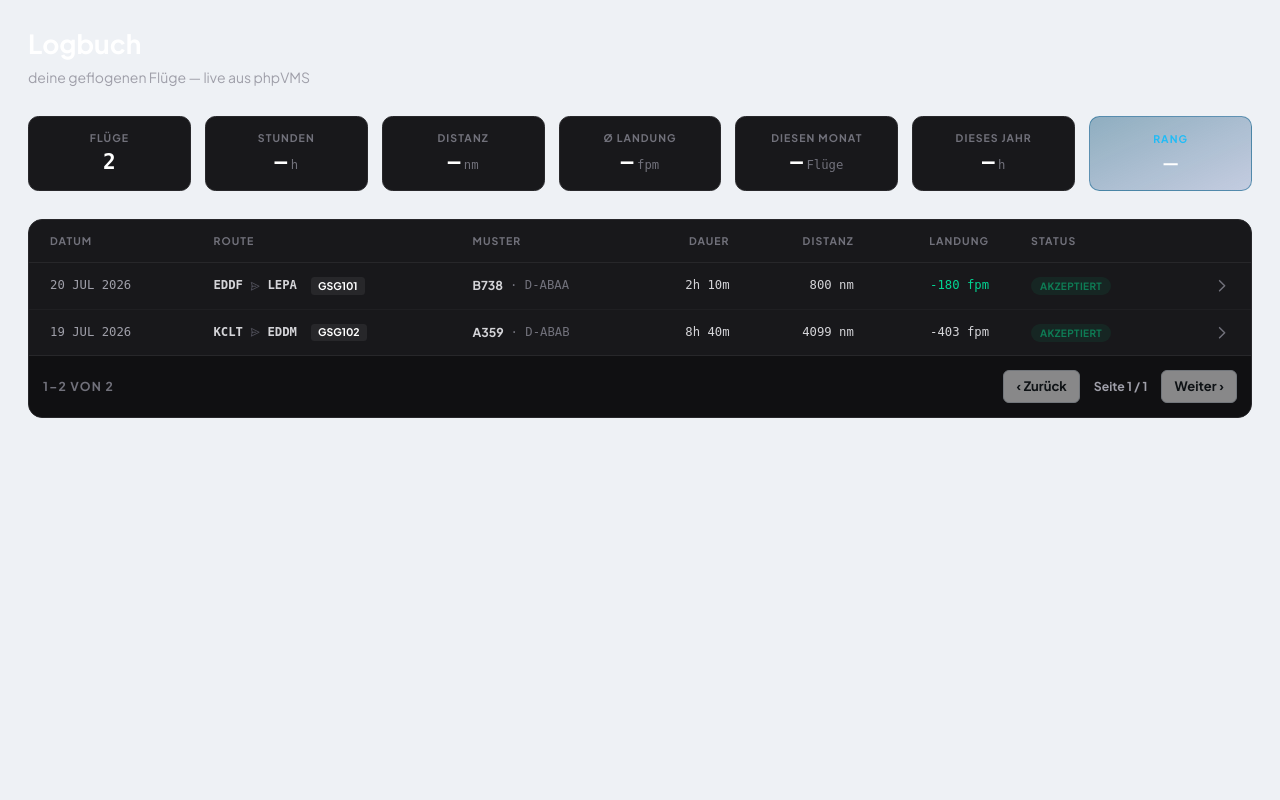
Test: Ladeanzeige beim Öffnen eines Fluges › nimmt die Anzeige zurück, sobald der Flug da ist
Click the text "GSG102" at {"x": 91, "y": 332}, box [29,309,1251,355]
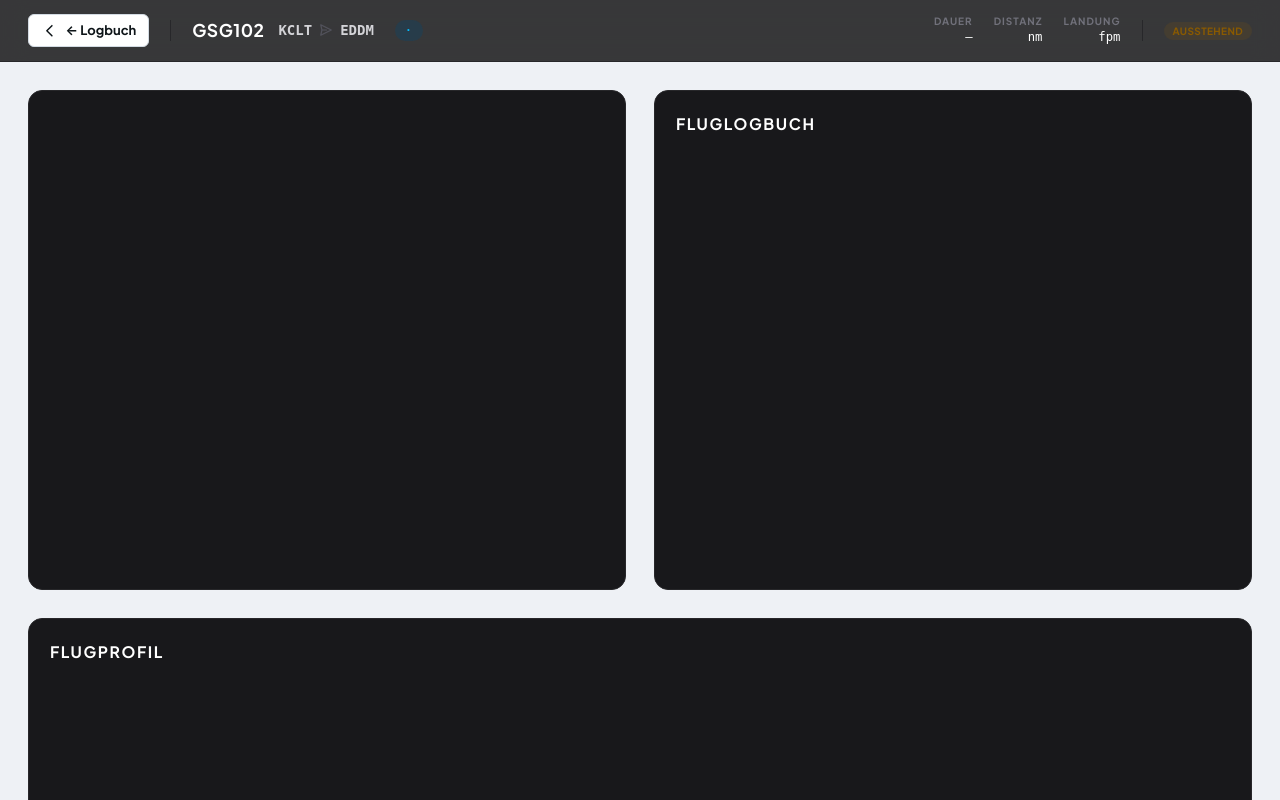
Now the button "← Logbuch" is shown, box [28,14,149,47]
